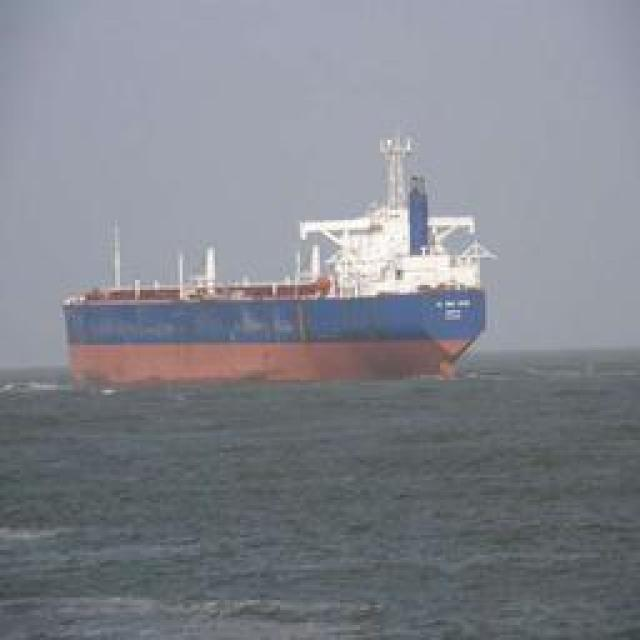CIV_Ship: (71, 234, 489, 384)
